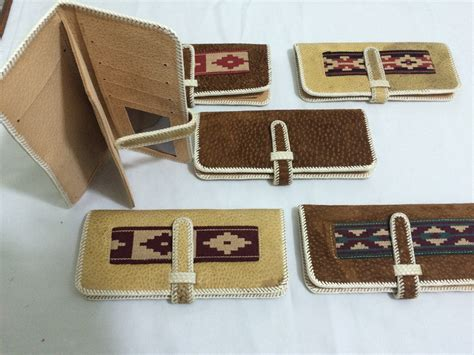gamuza: (2, 1, 474, 302)
